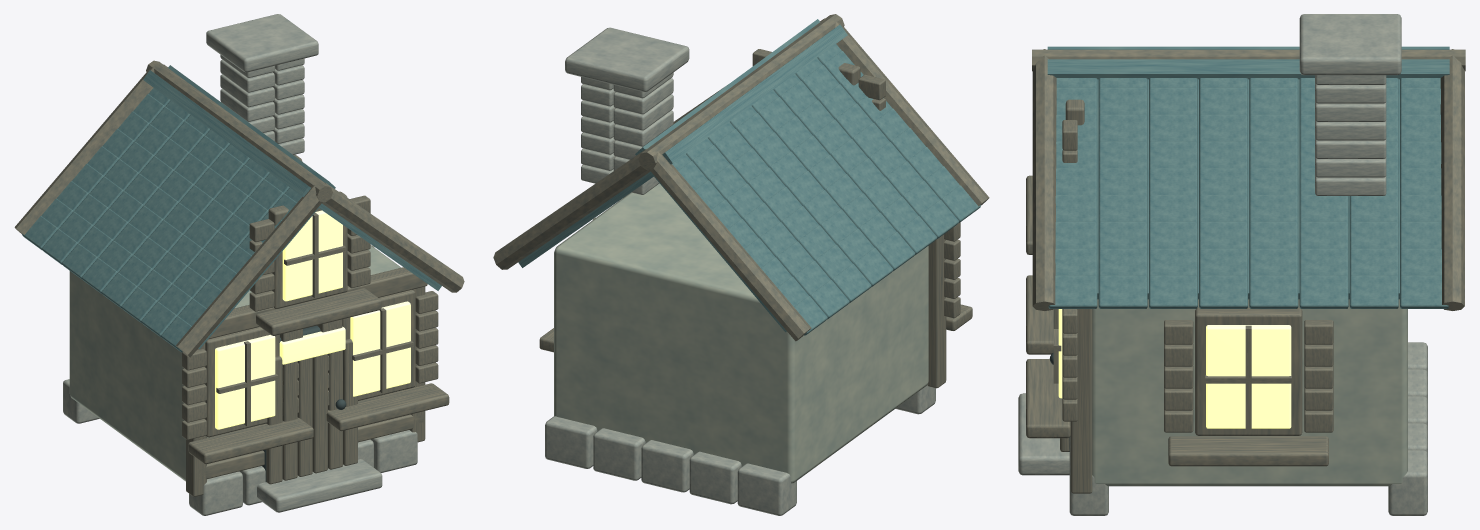
File: forest-lodge.glb
The picture shows the model from 3 angles, left to right: view 1: azimuth 30°, elevation 25°; view 2: azimuth 150°, elevation 25°; view 3: azimuth 270°, elevation 25°; orthographic projection. The views are drawn at different scales.
Visible parts, largest first — view 1: Oak corner post.004, Slate roof backing.004, Foundation blocks.030, 药草小屋 limewash walls.001, Door transom.002; view 2: 药草小屋 limewash walls.001, Slate roof backing.004, Foundation blocks.030, Oak corner post.004; view 3: Slate roof backing.004, Oak corner post.004, 药草小屋 limewash walls.001, Foundation blocks.030, Door transom.002.
Part boxes in pixels (bbox=[...]): Oak corner post.004: bbox=[14, 60, 464, 496]; Slate roof backing.004: bbox=[22, 65, 441, 352]; Foundation blocks.030: bbox=[63, 14, 417, 515]; 药草小屋 limewash walls.001: bbox=[69, 245, 400, 481]; Door transom.002: bbox=[215, 210, 410, 429]; 药草小屋 limewash walls.001: bbox=[554, 183, 928, 483]; Slate roof backing.004: bbox=[518, 19, 980, 335]; Foundation blocks.030: bbox=[545, 27, 935, 515]; Oak corner post.004: bbox=[493, 14, 989, 388]; Slate roof backing.004: bbox=[1047, 46, 1449, 308]; Oak corner post.004: bbox=[1026, 49, 1465, 493]; 药草小屋 limewash walls.001: bbox=[1092, 299, 1407, 486]; Foundation blocks.030: bbox=[1018, 14, 1427, 515]; Door transom.002: bbox=[1058, 309, 1291, 428].
Size of the model in its own units: 3.38 by 3.93 by 3.5.
6 materials, 4 textured.
